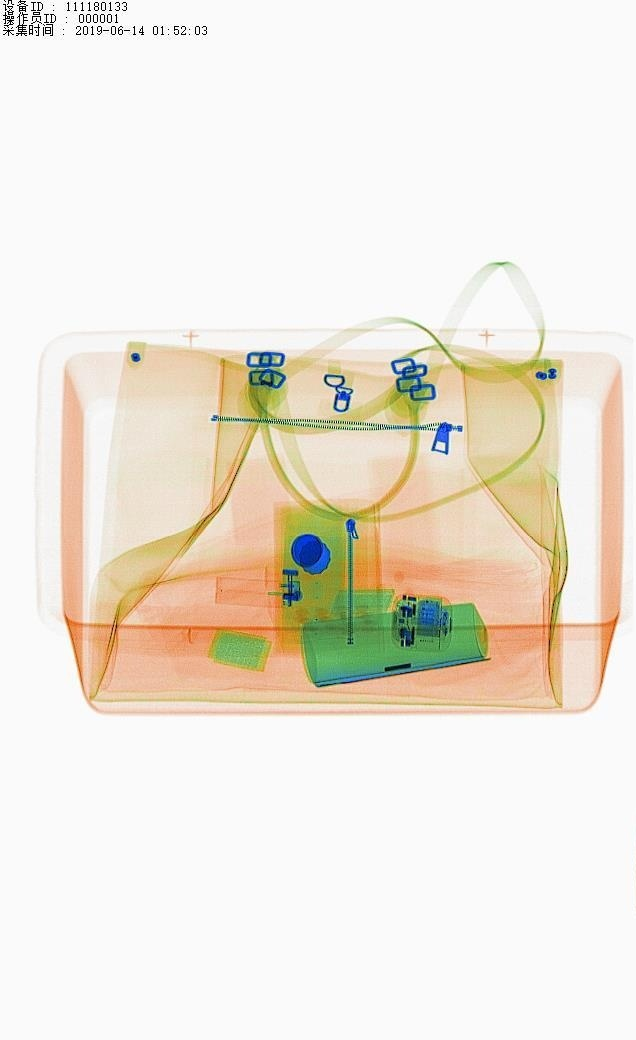NonmetallicFire: (217, 563, 309, 612)
